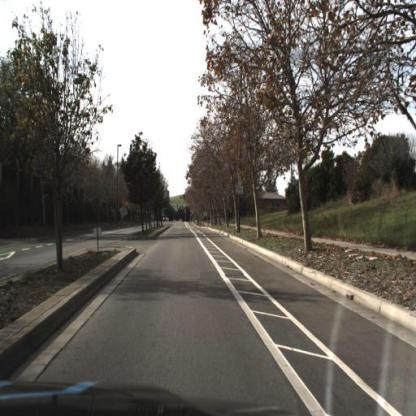car: (163, 216, 168, 221), (173, 218, 177, 222), (180, 218, 182, 222)
trafficLight-Red: (184, 208, 186, 214), (177, 203, 178, 207), (190, 210, 191, 213)
